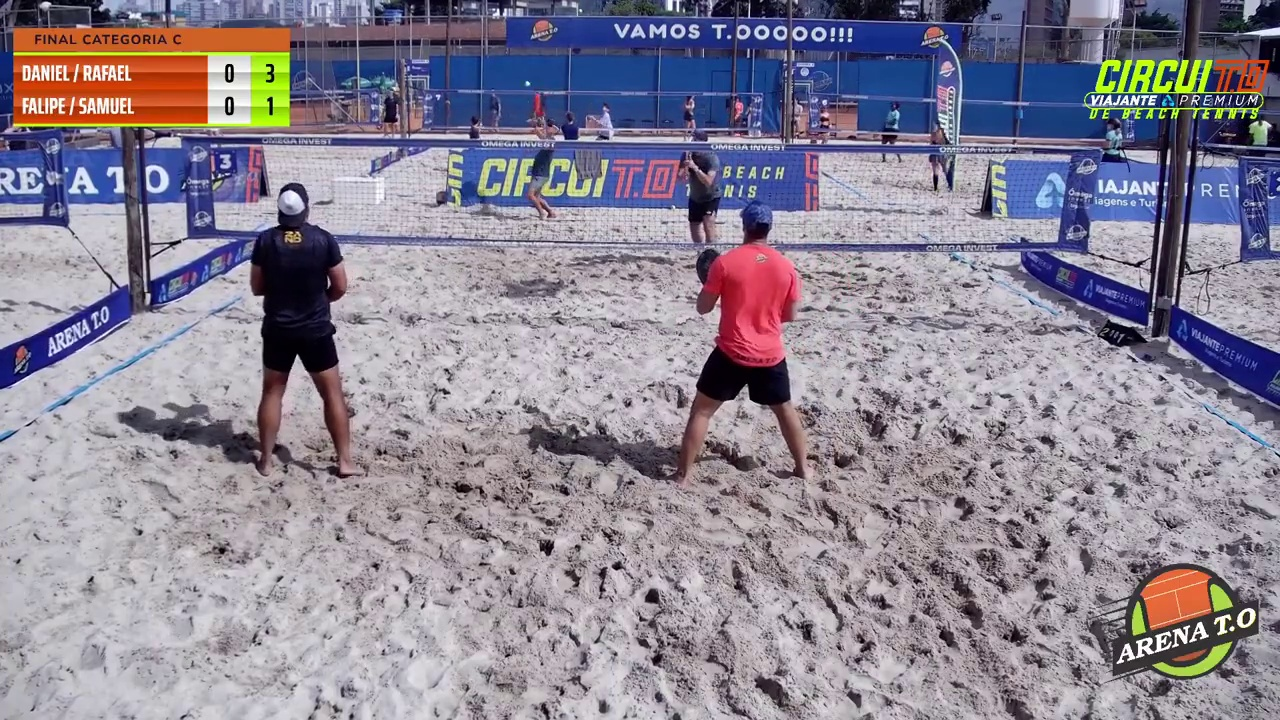court_line: (649, 0, 775, 498)
